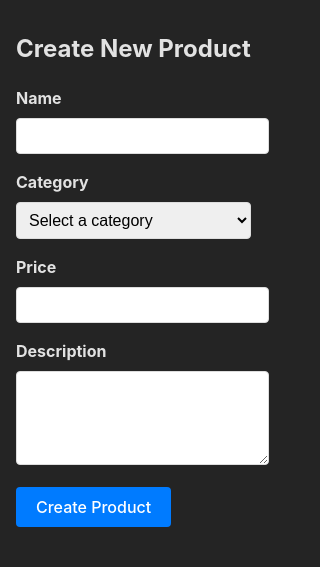
CreateProductForm › should validate price as positive number
Step 1. Type "Test Product" into the field labelled "Name" → (142, 136), box 16,118 -> 269,154
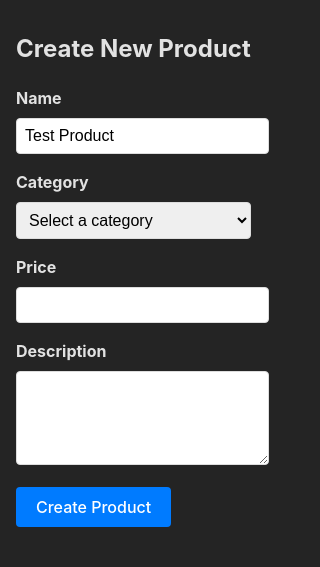
Step 2. Select "Electronics" in the dropdown labelled "Category" → (133, 221), box 16,202 -> 251,239
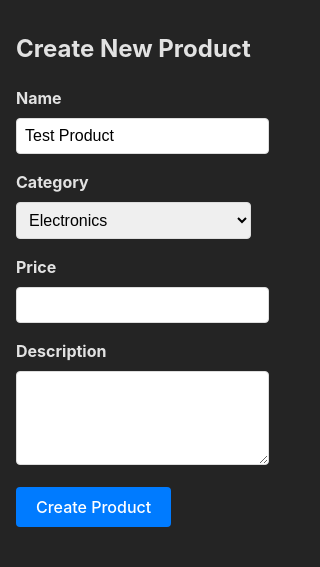
Step 3. Type "-10" into the number field labelled "Price" → (142, 305), box 16,287 -> 269,323
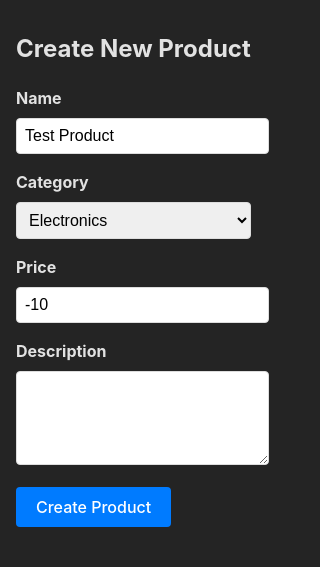
Step 4. Click the button "Create Product" → (94, 507), box 16,487 -> 171,527
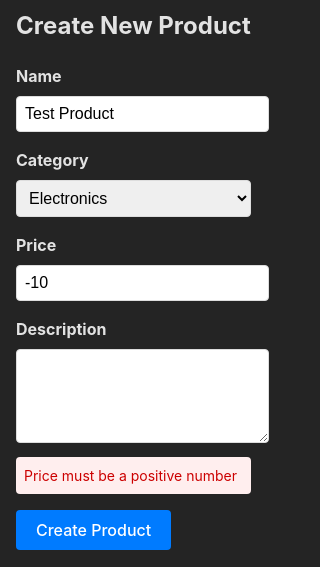
expect the text "Price must be a positive number" is shown: met, box 16,457 -> 251,494
